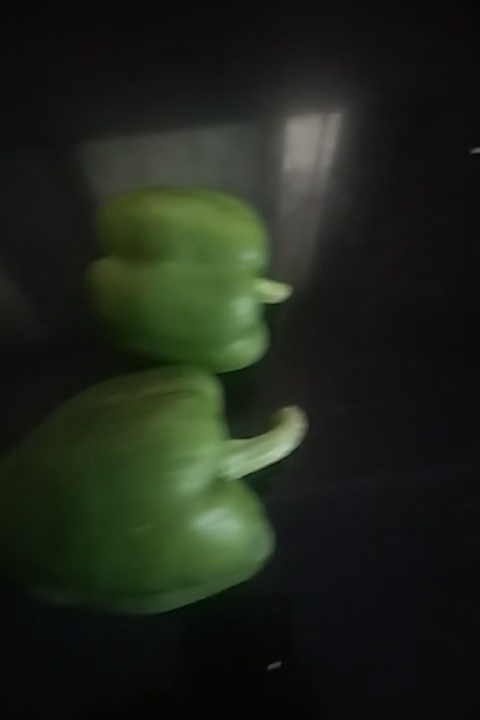capsicum: (1, 368, 291, 596), (93, 183, 282, 384)
